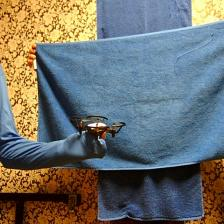drone: (68, 114, 126, 139)
